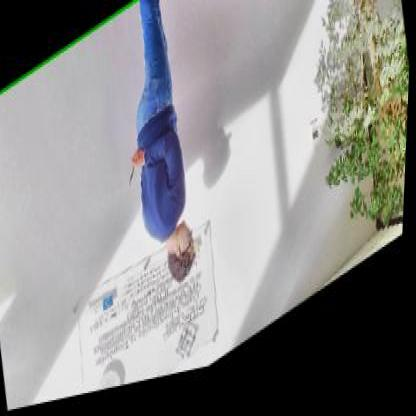knife: (124, 150, 146, 196)
